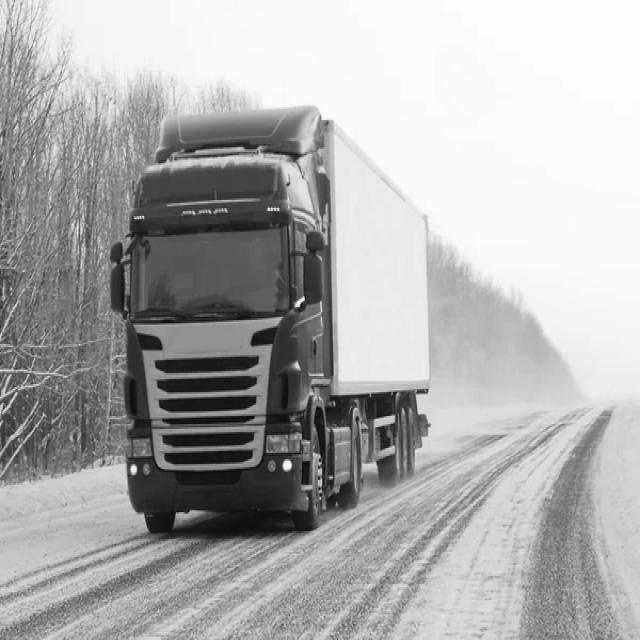Truck: (110, 107, 431, 533)
